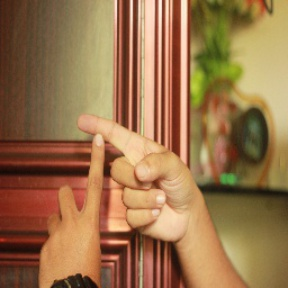T: (42, 108, 167, 256)
